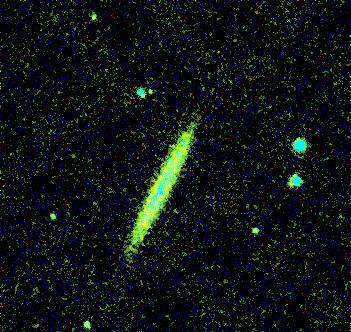star: (241, 215, 271, 245)
